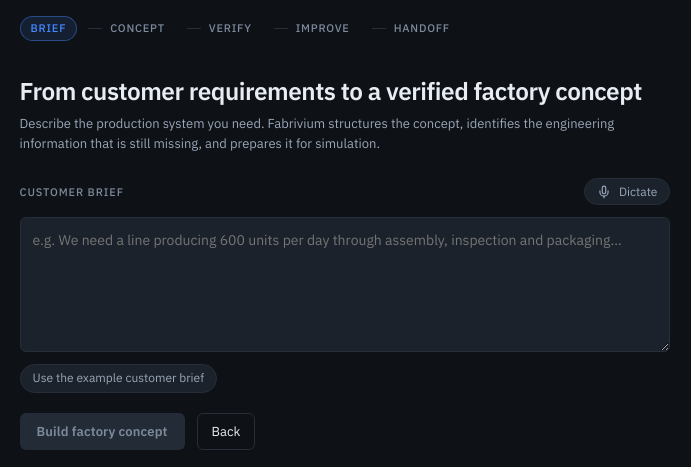
brief dictation › with a supported browser › keeps text editable after dictation — typing wins
Click the button with test id "concept-brief-mic" at (627, 192), box left=584, top=178, right=670, bottom=205
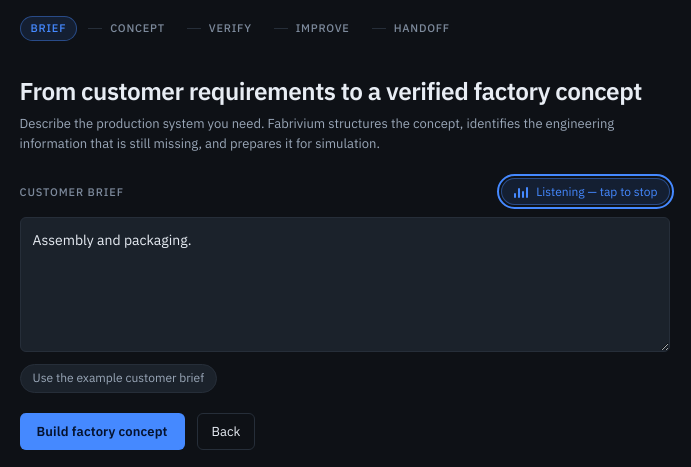
Type " 900 units per day." into the text box with test id "concept-brief-input" at (345, 285), box left=20, top=217, right=670, bottom=352
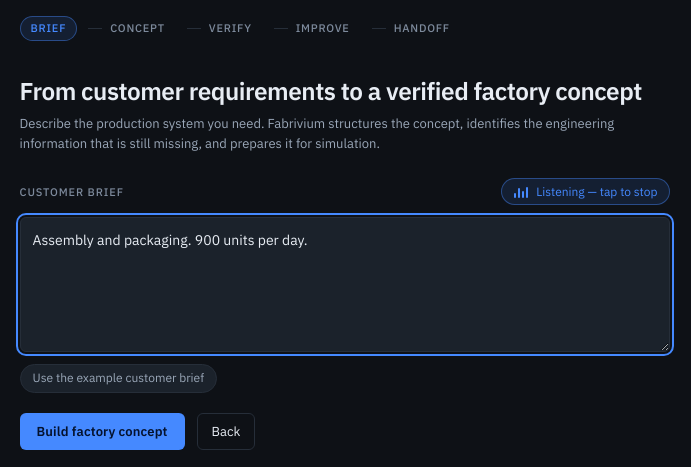
Now the text box with test id "concept-brief-input" holds "Assembly and packaging. 900 units per day.", box left=20, top=217, right=670, bottom=352
